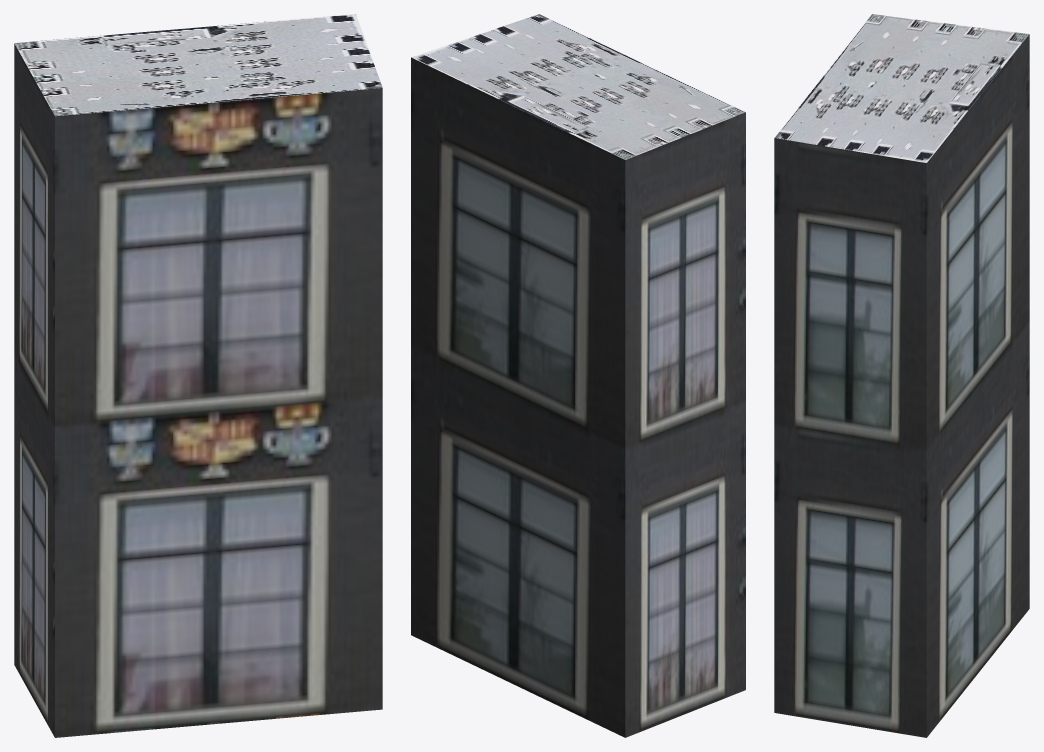
The model's file is ResTex__401.fbx.
3 views of the same model, side by side, from view 1: azimuth 30°, elevation 25°; view 2: azimuth 150°, elevation 25°; view 3: azimuth 270°, elevation 25° (orthographic). The views are drawn at different scales.
Parts seen in each view (by area): view 1: CityEngineMaterial_22_m, CityEngineMaterial_8_m; view 2: CityEngineMaterial_22_m, CityEngineMaterial_8_m; view 3: CityEngineMaterial_22_m, CityEngineMaterial_8_m.
Part boxes in pixels (box(x1,y1,x2,y2)): CityEngineMaterial_22_m: box(14, 44, 382, 737); CityEngineMaterial_8_m: box(14, 14, 382, 116); CityEngineMaterial_22_m: box(411, 57, 745, 737); CityEngineMaterial_8_m: box(411, 14, 745, 159); CityEngineMaterial_22_m: box(774, 34, 1029, 737); CityEngineMaterial_8_m: box(774, 14, 1029, 162).
Bounding box in the file's own units: 3.34 × 6 × 2.41.
2 materials, 2 textured.
